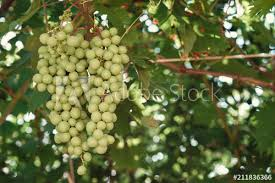grapes: (33, 20, 90, 158), (88, 28, 122, 154)
